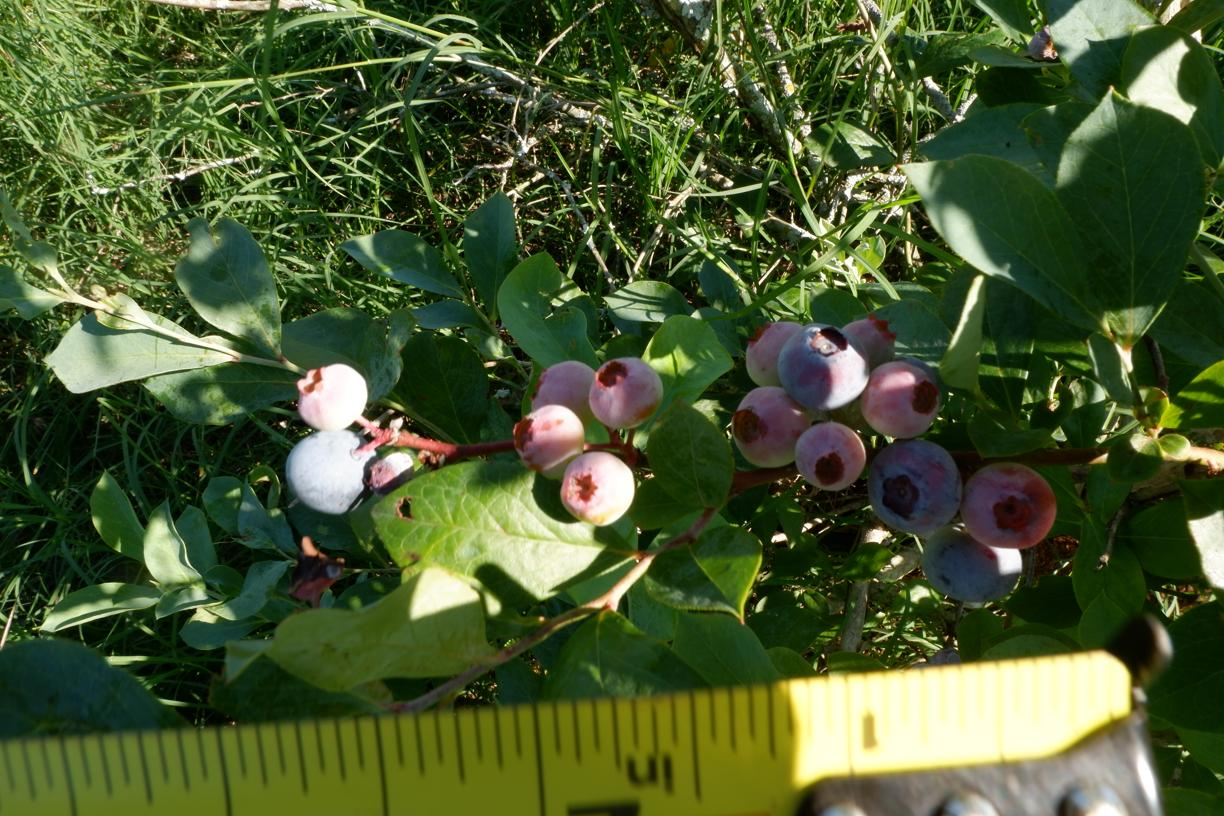Immature: (732, 386, 814, 467), (861, 361, 939, 440), (559, 452, 637, 526), (589, 355, 663, 430), (514, 405, 585, 482), (297, 361, 369, 428), (796, 421, 865, 490), (530, 361, 595, 427), (744, 321, 802, 385), (843, 315, 896, 373), (891, 355, 940, 377)
Mature: (866, 437, 962, 536), (776, 323, 871, 410), (284, 428, 377, 516), (960, 462, 1057, 546), (923, 523, 1022, 603)
